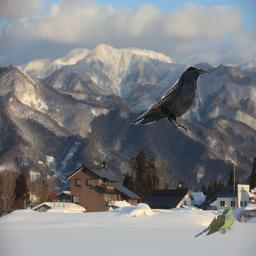Crow: (131, 66, 209, 131)
Cuckoo: (191, 208, 234, 238)
